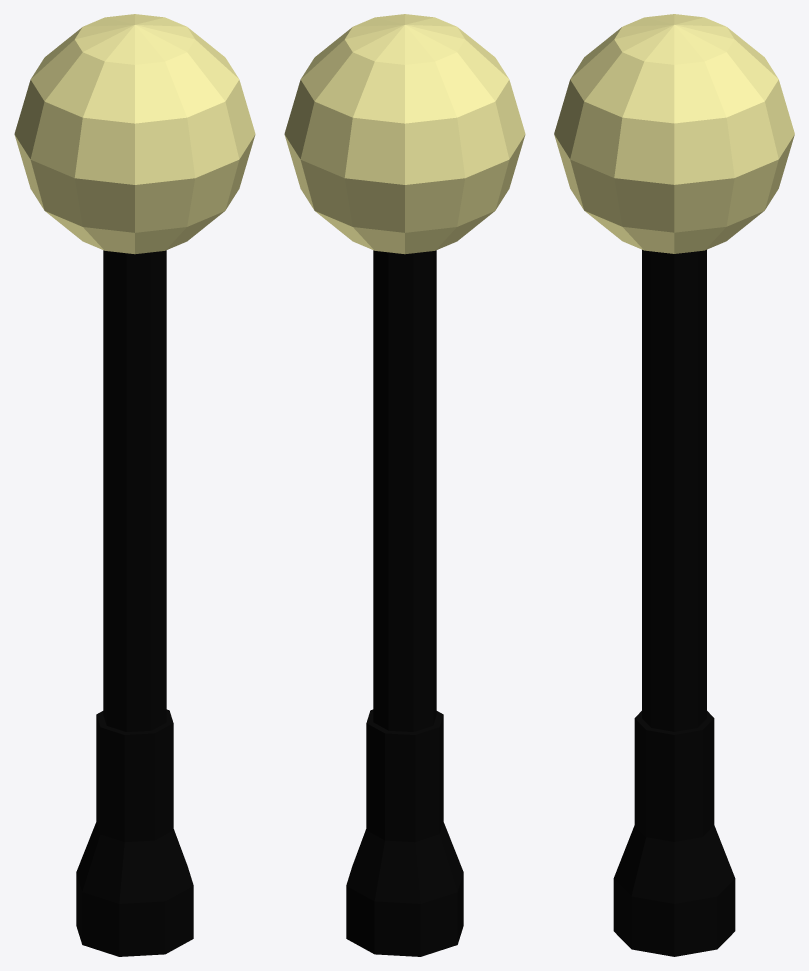
File: GardenLamp2.glb
3 views of the same model, side by side, from view 1: azimuth 30°, elevation 25°; view 2: azimuth 150°, elevation 25°; view 3: azimuth 270°, elevation 25° (orthographic).
Visible parts, largest first — view 1: GardenLamp2; view 2: GardenLamp2; view 3: GardenLamp2.
Boxes of the visible parts, x1,y1,x2,y2 form: GardenLamp2: (14,14,255,956); GardenLamp2: (284,14,525,956); GardenLamp2: (554,14,794,956).
Size of the model in its own units: 1.05 by 4.36 by 1.05.
